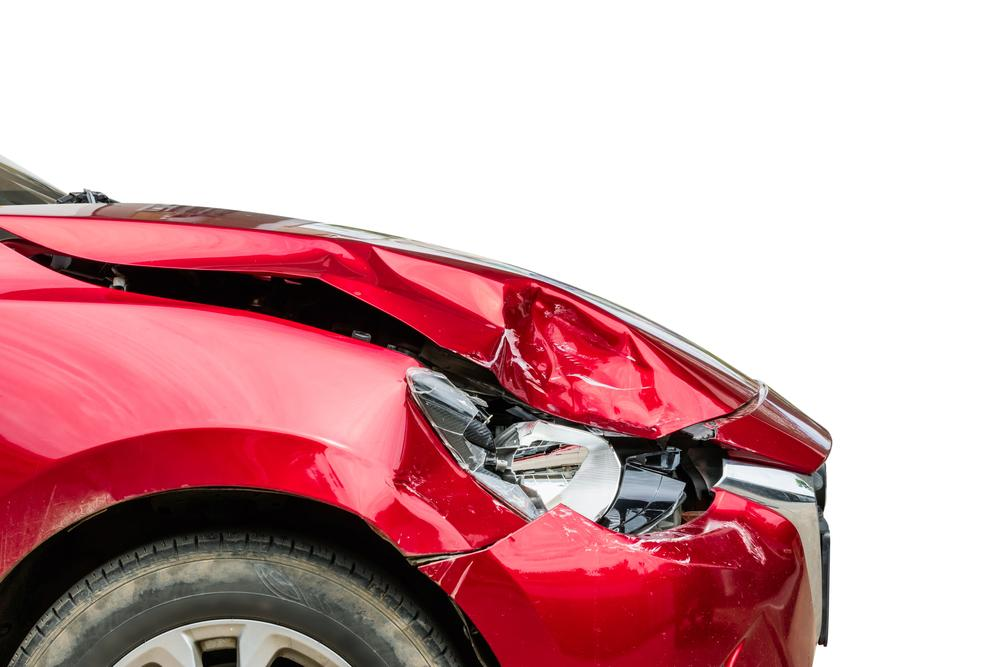dent: (234, 239, 663, 439), (393, 387, 528, 548)
lamp broken: (408, 373, 711, 532)
scratch: (554, 506, 782, 567)
